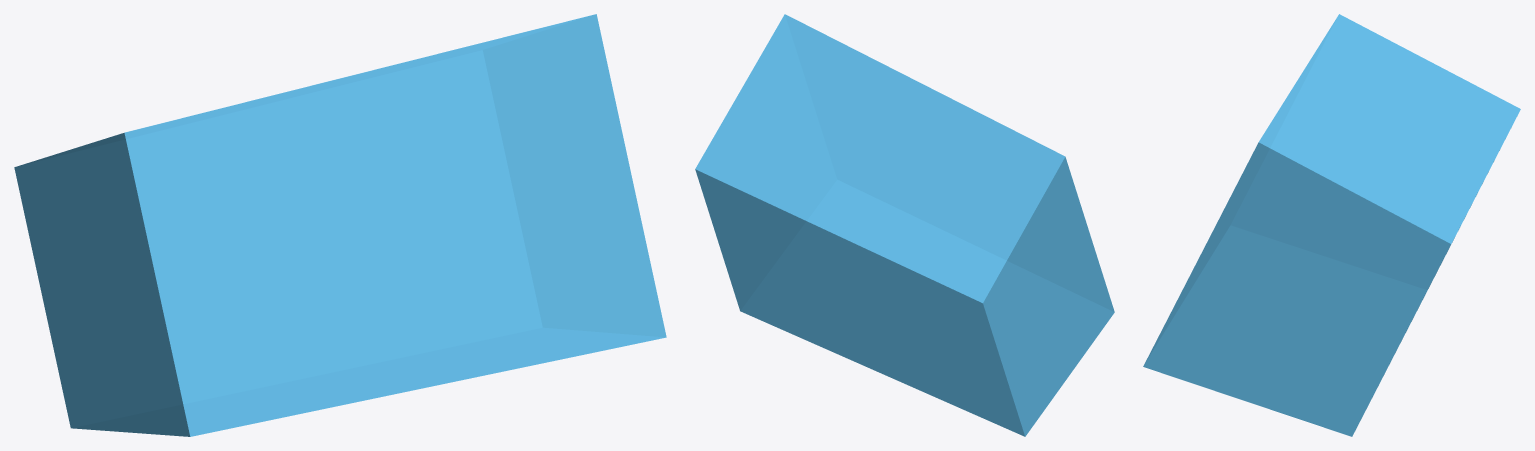
File: Event_420094457_HErechit_40.fbx
3 renders of one model, left to right at view 1: azimuth 30°, elevation 25°; view 2: azimuth 150°, elevation 25°; view 3: azimuth 270°, elevation 25°, orthographic. The views are drawn at different scales.
Visible parts, largest first — view 1: Model; view 2: Model; view 3: Model.
Part boxes in pixels (bbox=[...]): Model: bbox=[14, 14, 666, 436]; Model: bbox=[695, 14, 1114, 436]; Model: bbox=[1143, 14, 1520, 436].
Bounding box in the file's own units: 0.6462 × 0.5594 × 0.6016.
